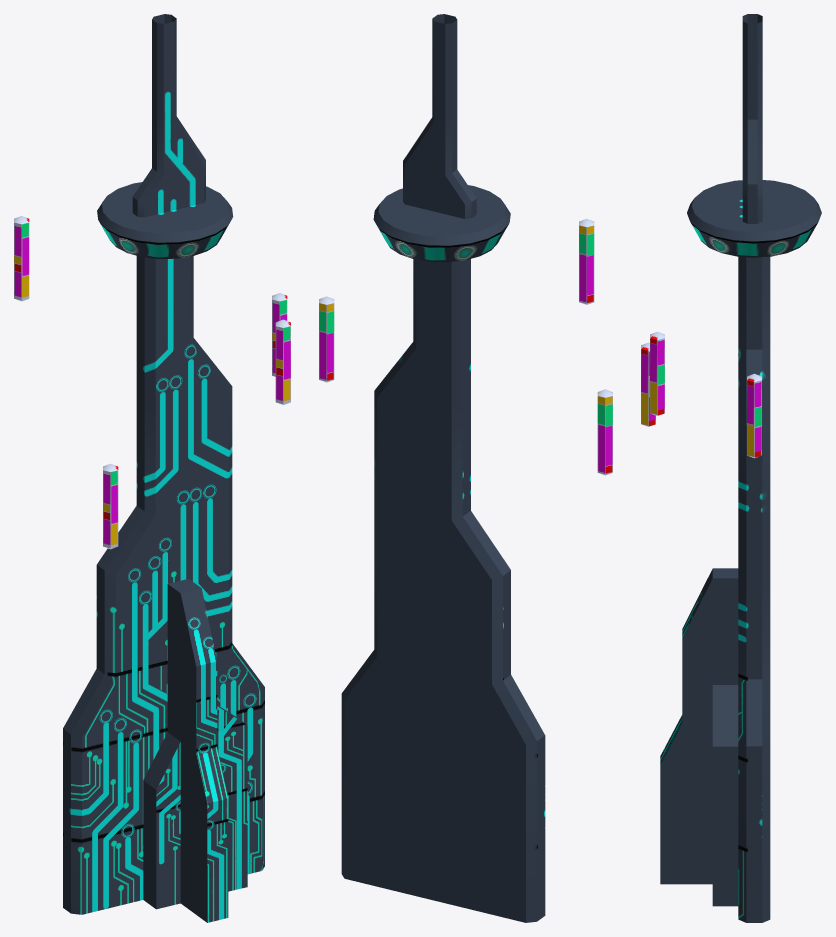
Rendered from twer.fbx.
3 renders of one model, left to right at view 1: azimuth 30°, elevation 25°; view 2: azimuth 150°, elevation 25°; view 3: azimuth 270°, elevation 25°, orthographic. The views are drawn at different scales.
Visible parts, largest first — view 1: pCylinder6; view 2: pCylinder6; view 3: pCylinder6.
Part boxes in pixels (box(x1,y1,x2,y2)): pCylinder6: box(14, 14, 290, 922); pCylinder6: box(319, 14, 612, 922); pCylinder6: box(641, 14, 821, 922).
Bounding box in the file's own units: 5.58 × 16.96 × 3.24.
